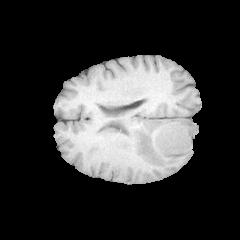glioma: (128, 119, 196, 167)
